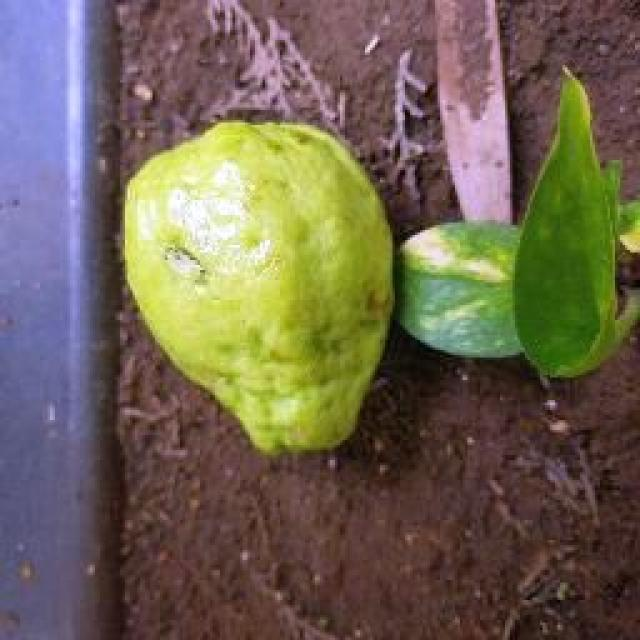Good_Guava: (120, 120, 395, 458)
